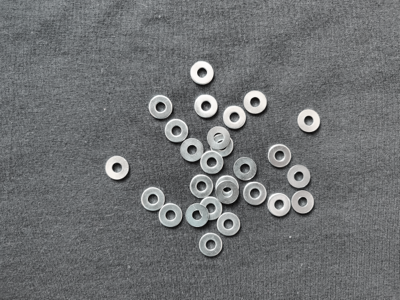circle: (242, 180, 269, 207), (296, 108, 323, 135), (194, 94, 222, 120), (196, 233, 225, 258), (197, 196, 223, 222), (180, 137, 206, 163), (243, 89, 269, 115), (106, 155, 130, 183), (267, 194, 293, 219), (216, 213, 242, 238), (140, 187, 166, 212), (148, 95, 174, 120), (234, 157, 259, 183), (267, 142, 292, 168), (287, 164, 313, 189), (189, 60, 215, 85), (165, 119, 190, 144), (291, 190, 315, 215), (200, 151, 225, 175), (223, 105, 248, 129), (216, 176, 239, 202), (190, 175, 214, 199), (159, 203, 183, 227), (210, 134, 234, 158), (215, 181, 239, 204), (187, 204, 209, 228), (207, 127, 231, 149)
